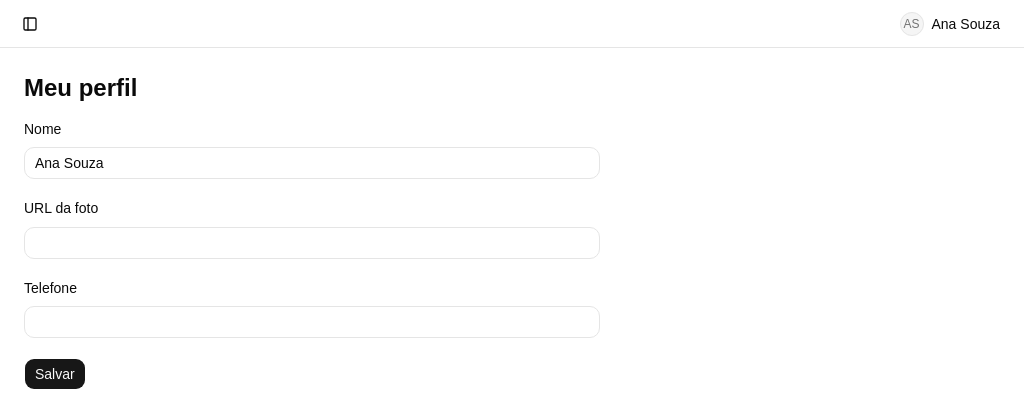
Test: Perfil (História 6, FR-005) › o menu tem "Meu perfil" e "Sair"
This screenshot has width=1024, height=406.
Click the button with aria-label "Menu do perfil". click: (950, 24)
box: [892,8,1008,40]
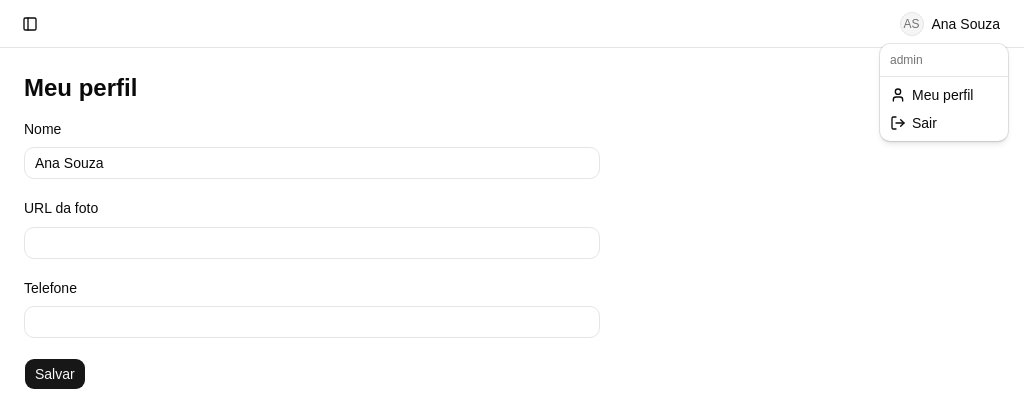
Result: the menu item "Meu perfil" is shown at [890,87,974,103]
Result: the menu item "Sair" is shown at [890,115,937,131]
